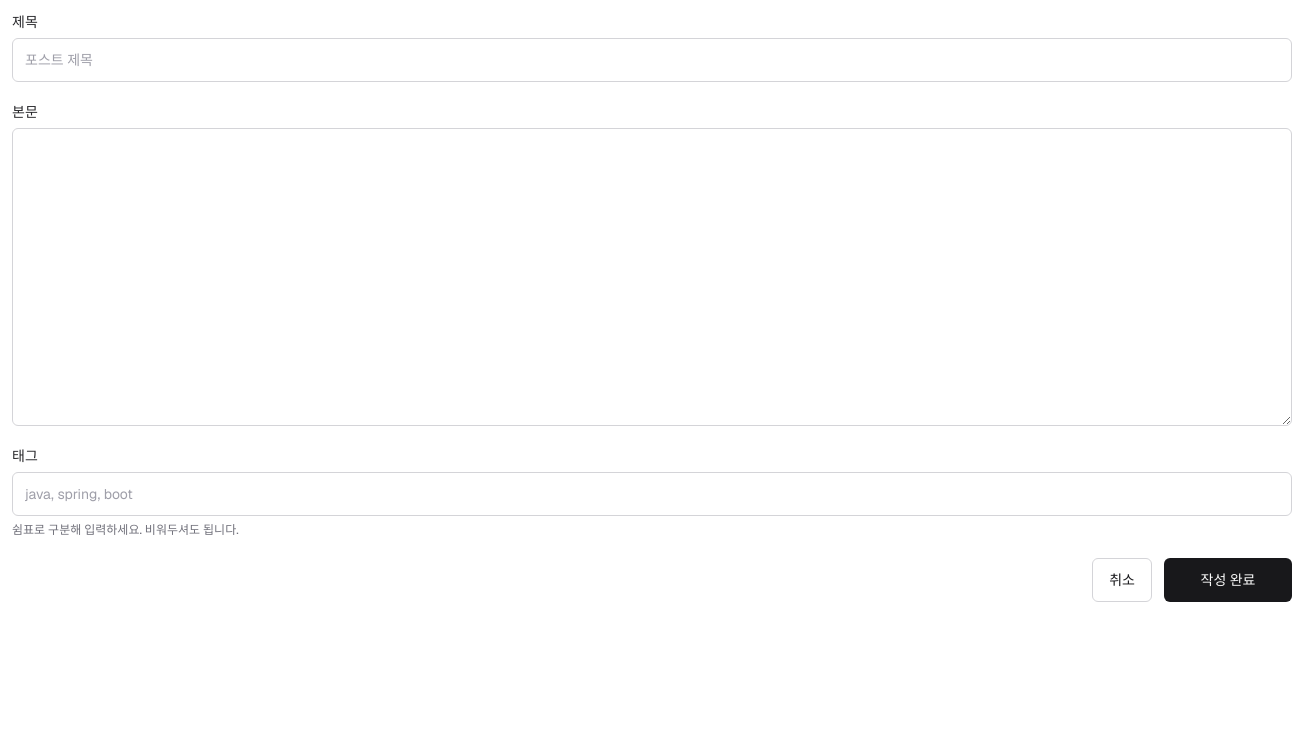
it: <PostForm /> › action 이 진행 중이면 submit 버튼이 disabled '작성 중...' 을 노출한다
Type "t" into the field labelled "제목" at (652, 60), box [12,38,1292,82]
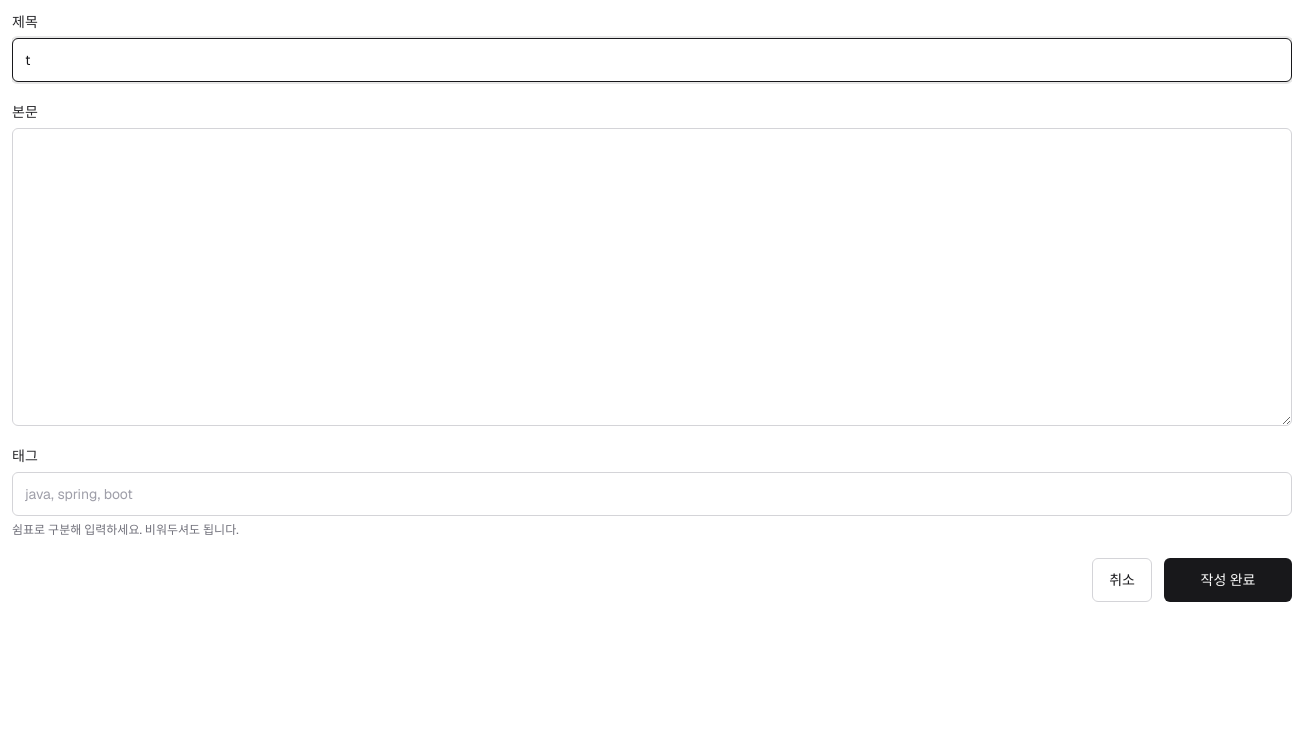
Type "c" into the text box labelled "본문" at (652, 277), box [12,128,1292,426]
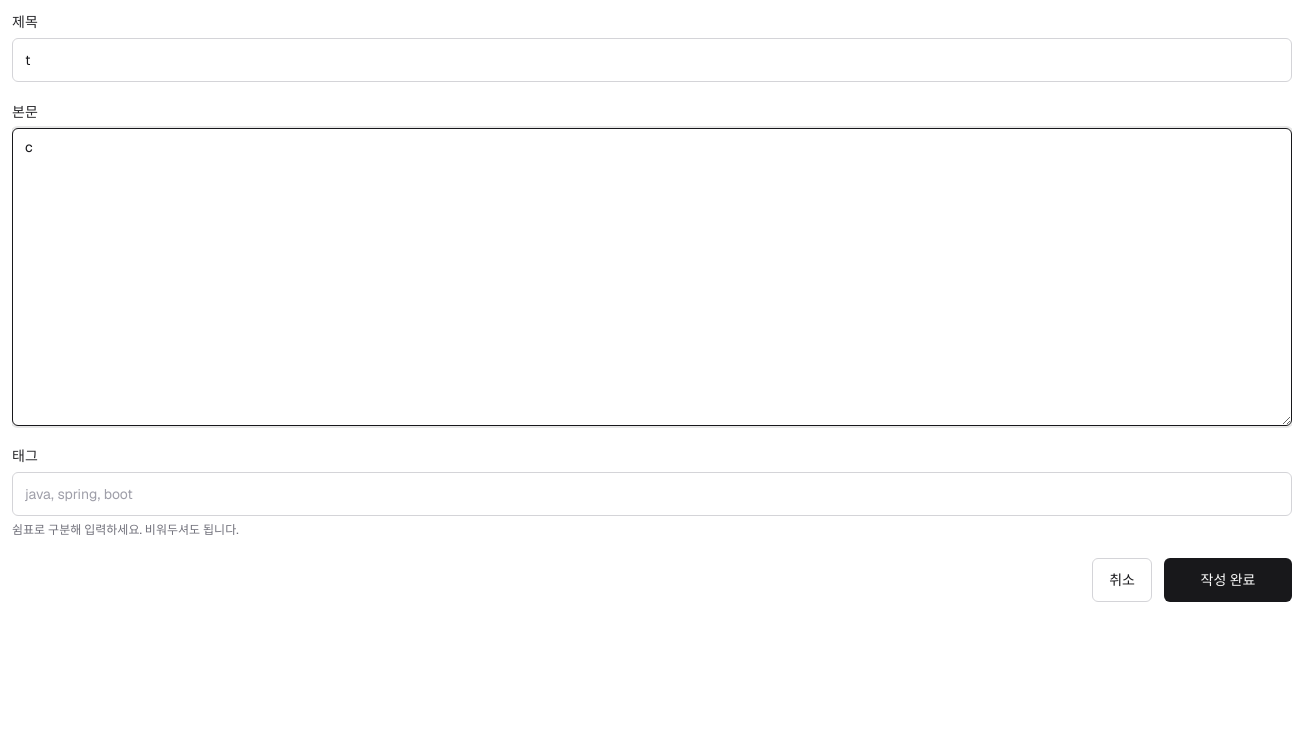
Click the button "작성 완료" at (1228, 580), box [1164,558,1292,602]
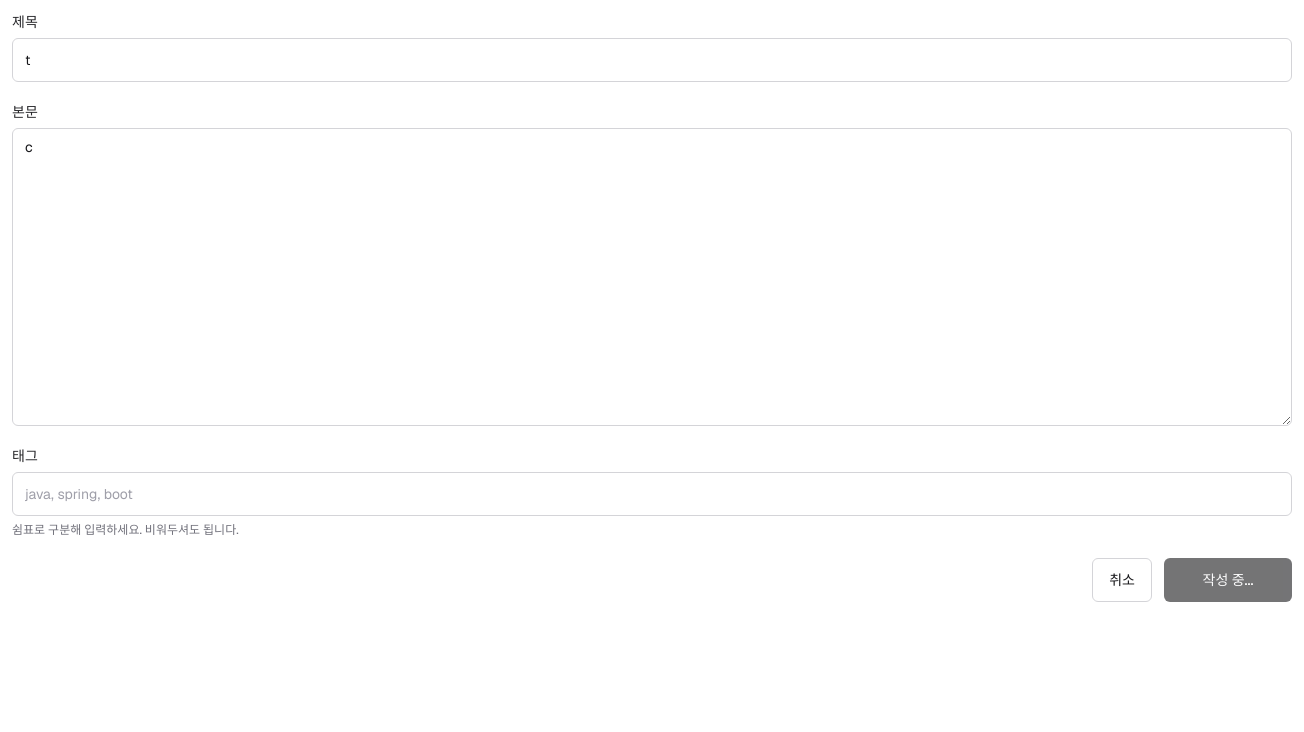
Result: the button "작성 중..." is disabled at [1164,558,1292,602]
